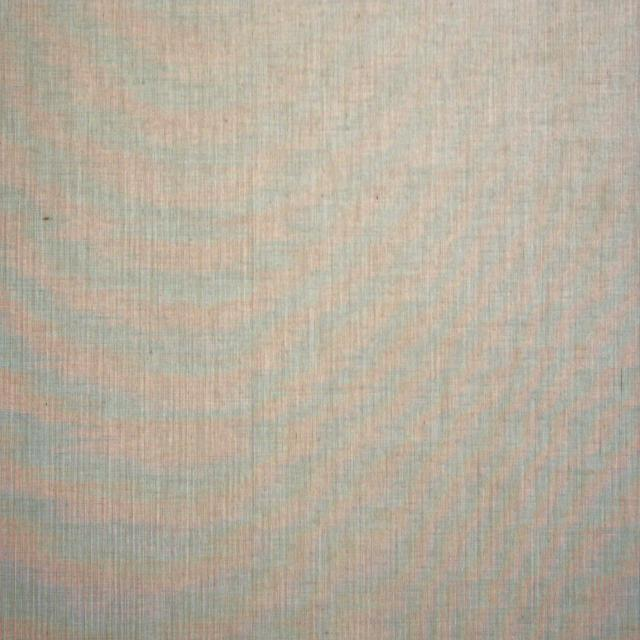dirty: (42, 215, 55, 224)
